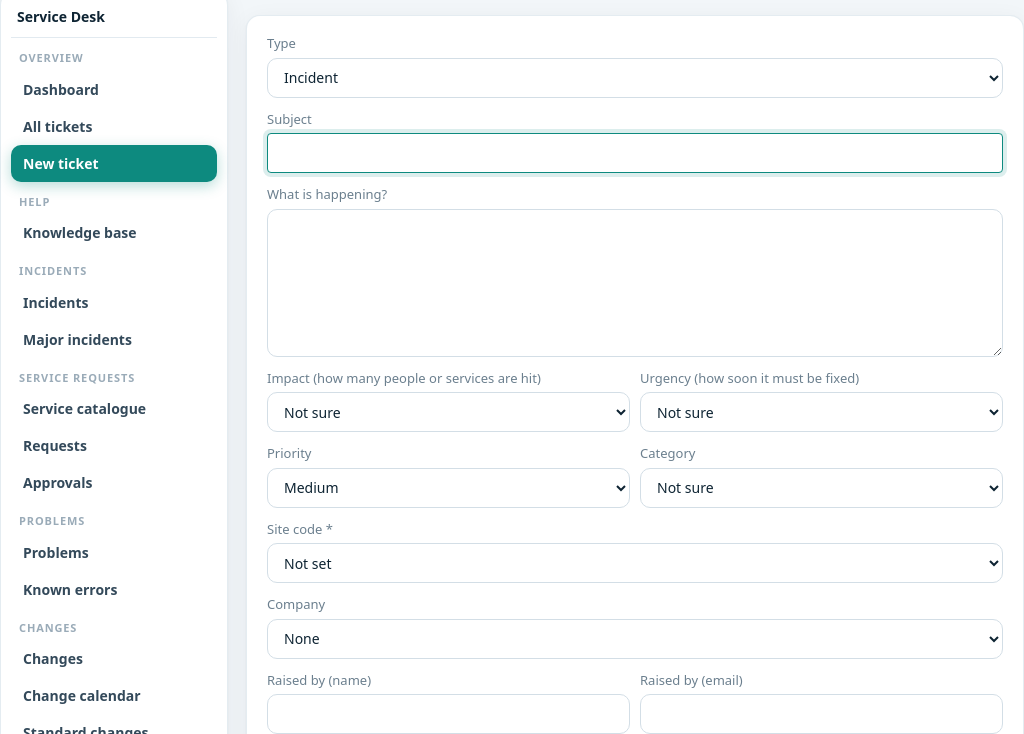
Test: a required extra field must be filled in before a ticket can be opened
Expected: the text "Site code *" is shown, [267, 520, 333, 538]
Type "Printer jam" into the field labelled "Subject" at (635, 153), box [267, 133, 1003, 173]
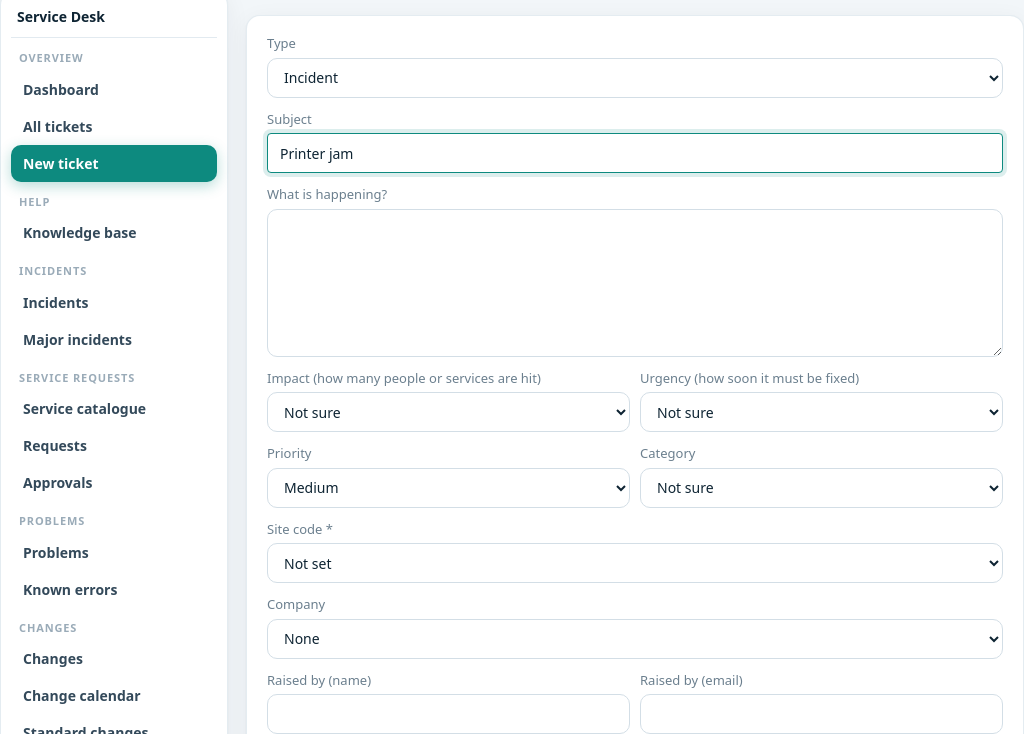
Select "DEL" in the dropdown labelled "Site code *" at (635, 563), box [267, 543, 1003, 583]
(page scrolled)
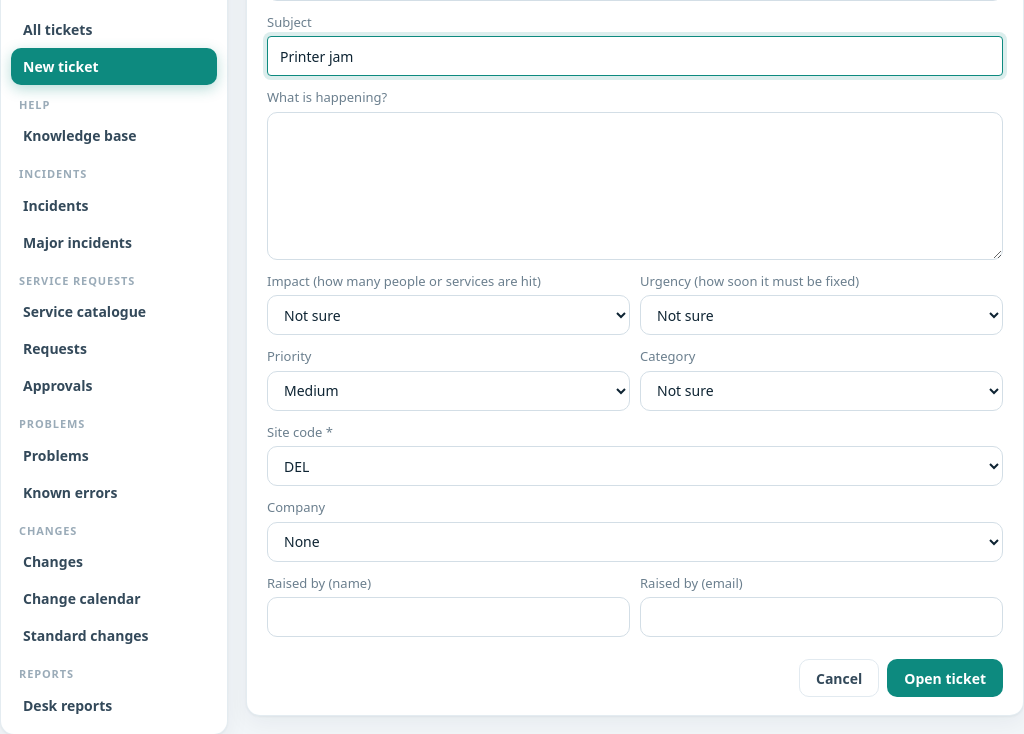
Now the button "Open ticket" is enabled, box [887, 659, 1003, 697]
